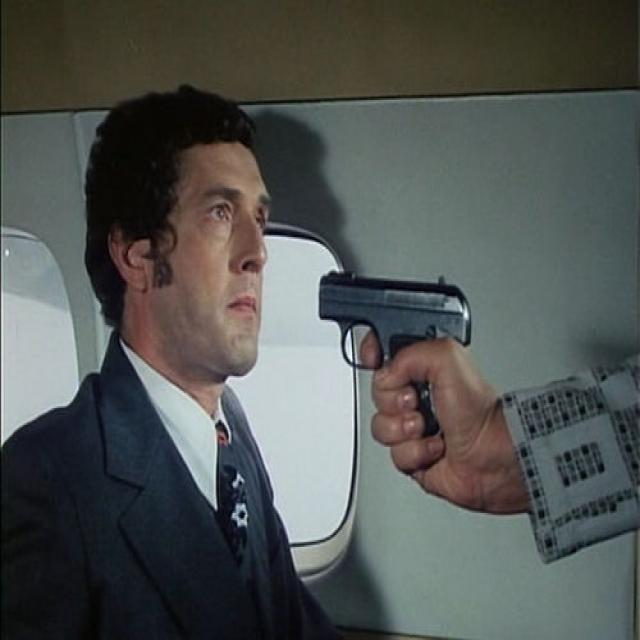weapons: (314, 244, 477, 463)
